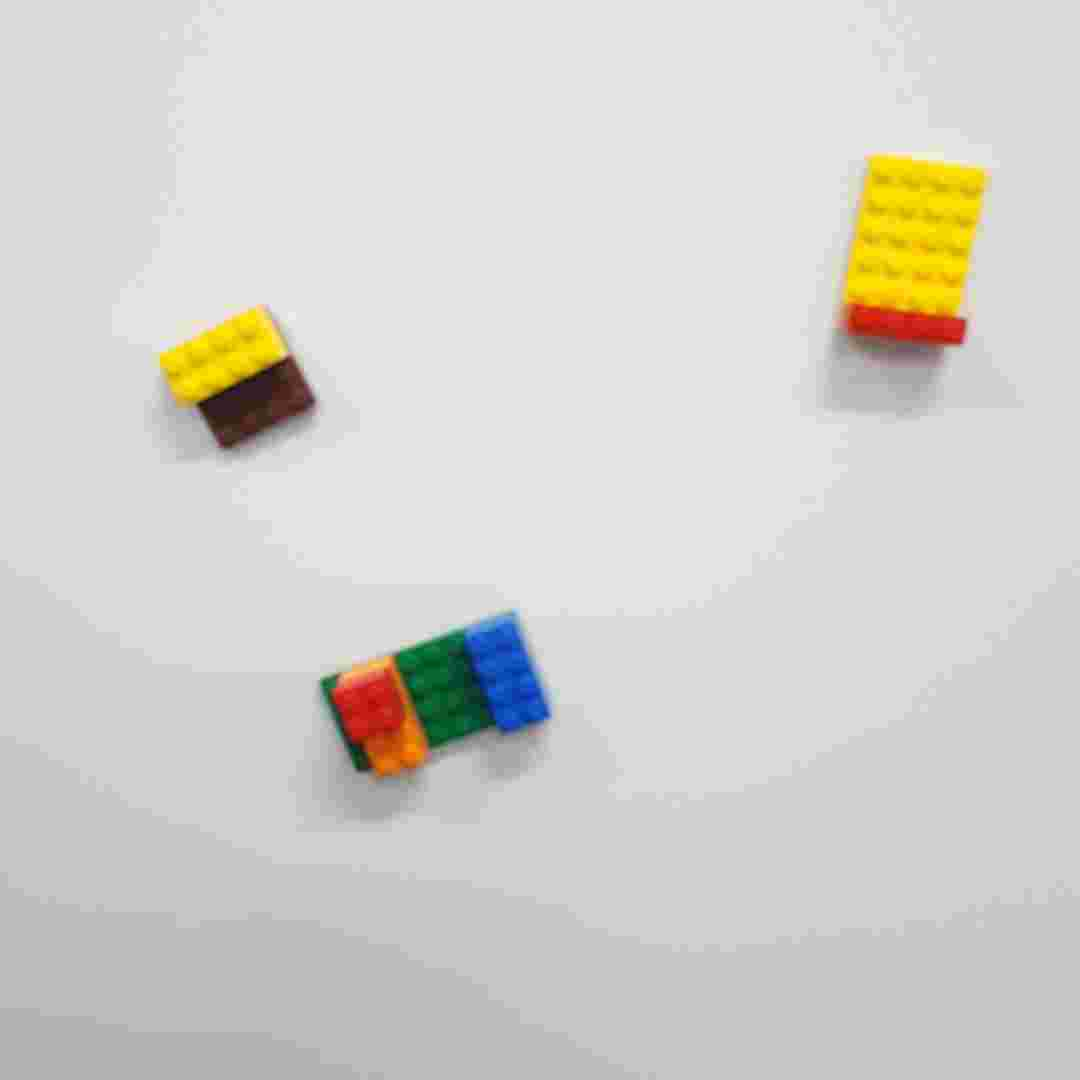LEGO: (315, 608, 557, 782), (830, 153, 990, 353), (157, 297, 323, 451)
